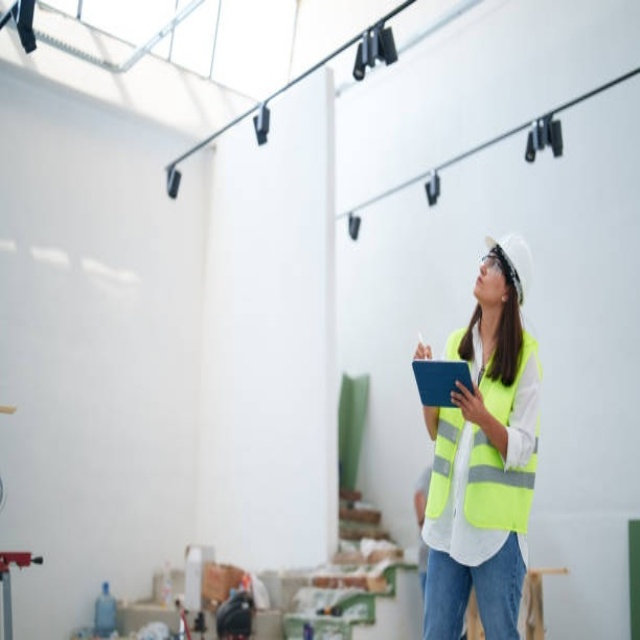Gafas: (480, 251, 505, 276)
Sin_guantes: (448, 376, 486, 422)
Sin_mascara: (474, 270, 489, 300)
